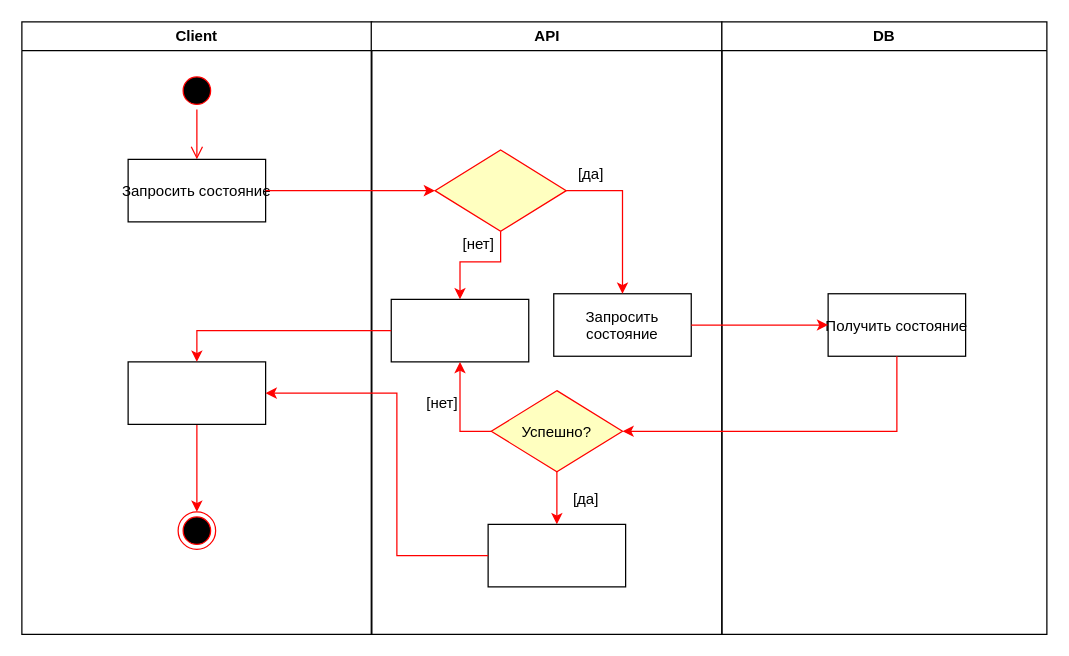
This 1069x656 diagram has some shape labels left out. The shapes that lost their labels are listed below. From the top down, each one's centre as x and y in pixels, then its label:
the point at 500,190: Токен корректен?
the point at 459,330: Вернуть ответ об ошибке
the point at 196,392: Получить ответ
the point at 556,555: Вернуть состояние
